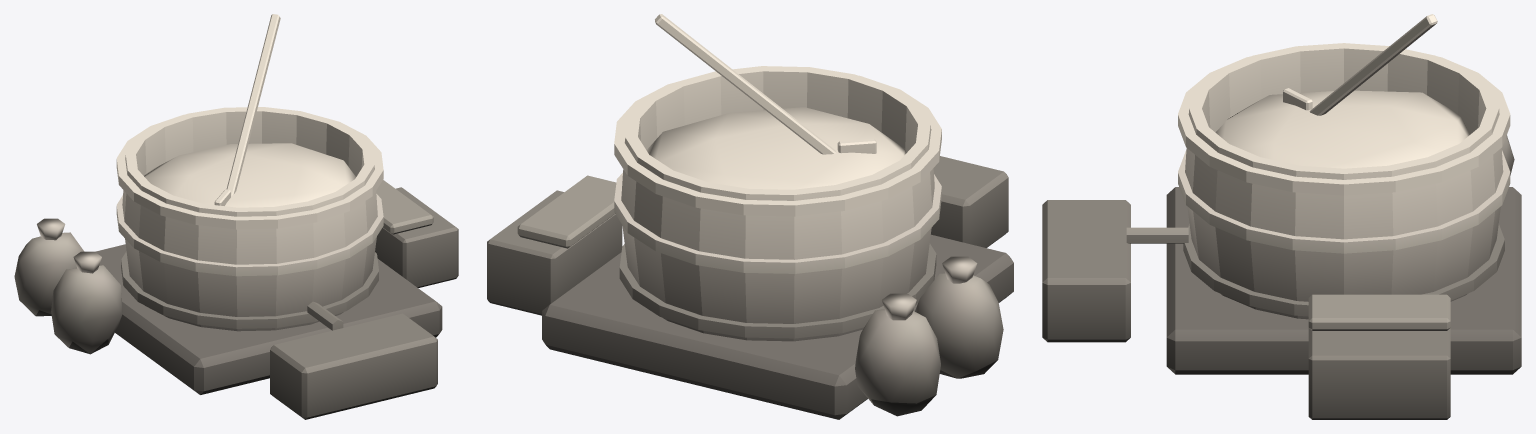
Rendered from SM_VK_Prop_MashTun.fbx.
3 views of the same model, side by side, from view 1: azimuth 30°, elevation 25°; view 2: azimuth 150°, elevation 25°; view 3: azimuth 270°, elevation 25° (orthographic). The views are drawn at different scales.
Parts seen in each view (by area): view 1: SM_VK_Prop_MashTun.001; view 2: SM_VK_Prop_MashTun.001; view 3: SM_VK_Prop_MashTun.001.
Boxes of the visible parts, x1,y1,x2,y2 form: SM_VK_Prop_MashTun.001: (14, 14, 458, 419); SM_VK_Prop_MashTun.001: (487, 14, 1013, 419); SM_VK_Prop_MashTun.001: (1042, 14, 1521, 419).
Bounding box in the file's own units: 3.09 × 2.03 × 2.7.
